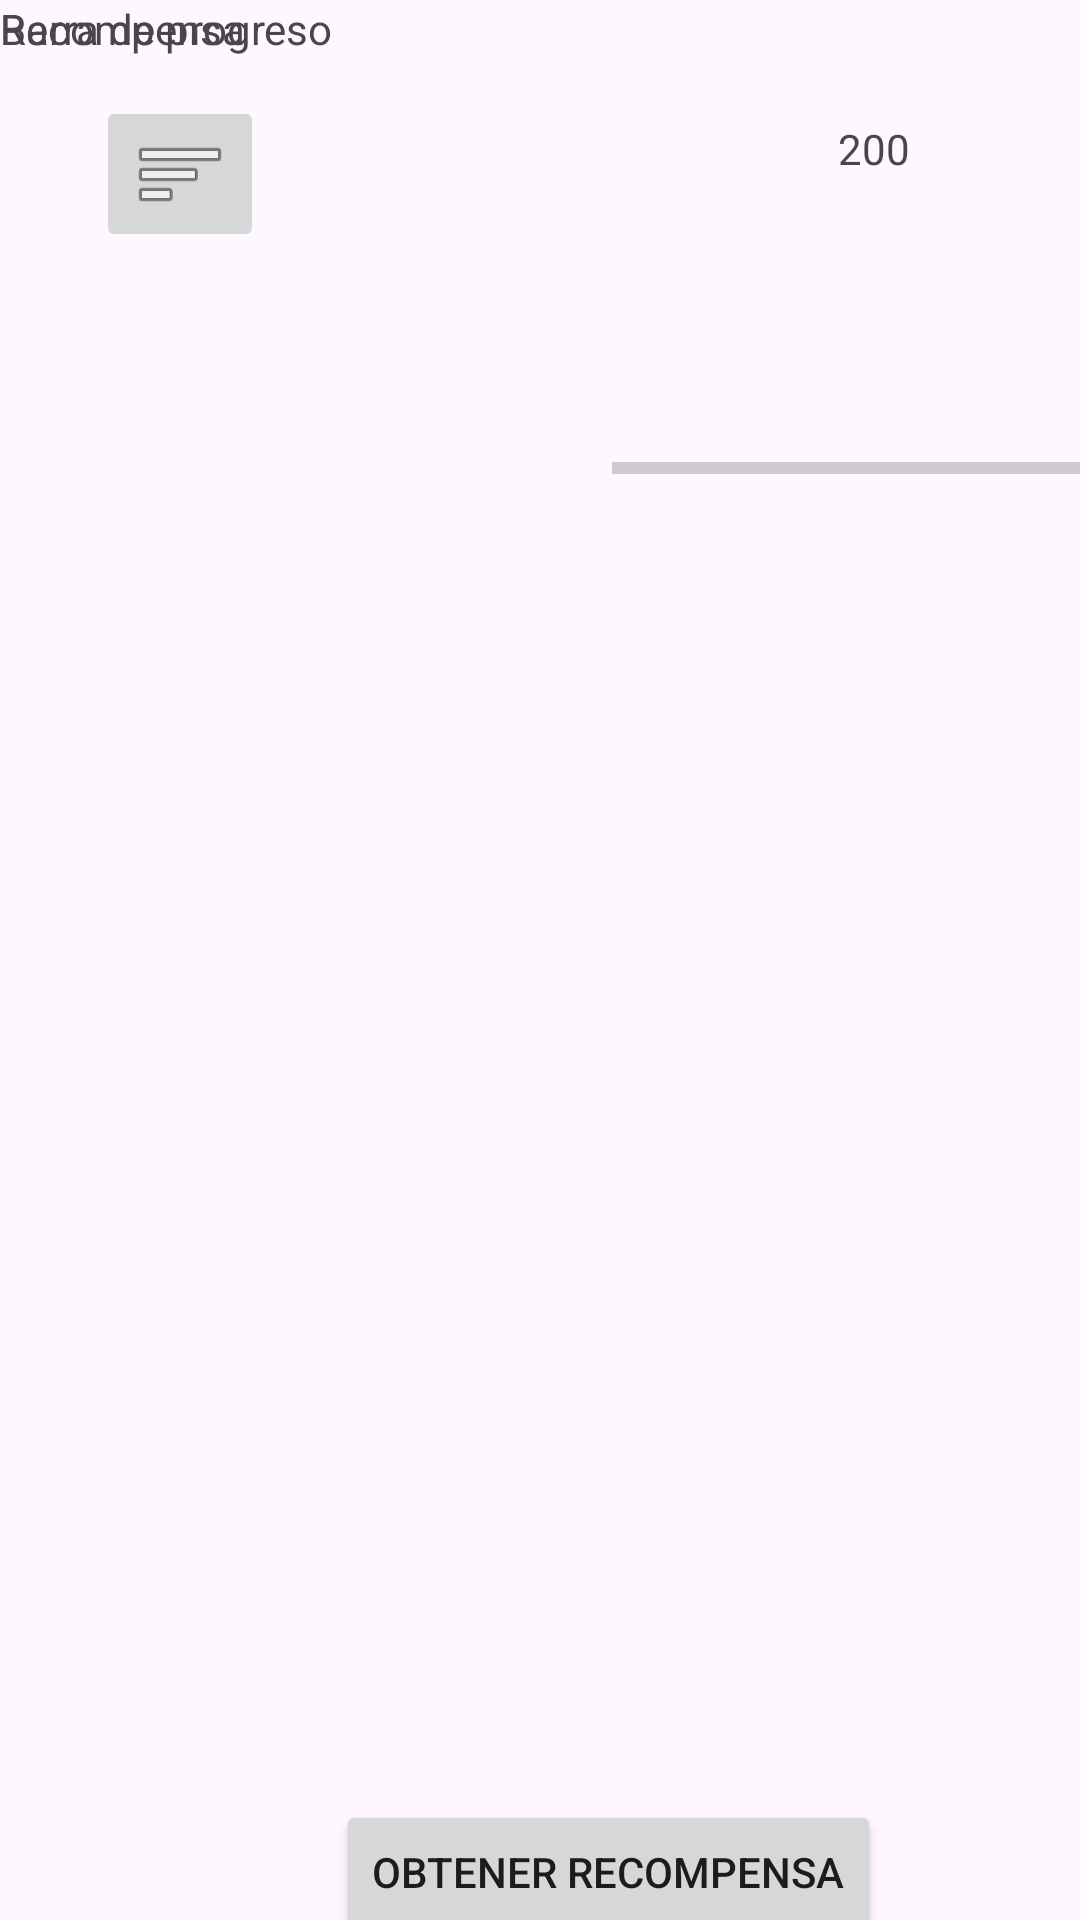

Named icons in this screenshot (1080 × 1920) and their bounding boxes, region(x1, y1, x2, y2):
sort by size: region(108, 114, 252, 234)
